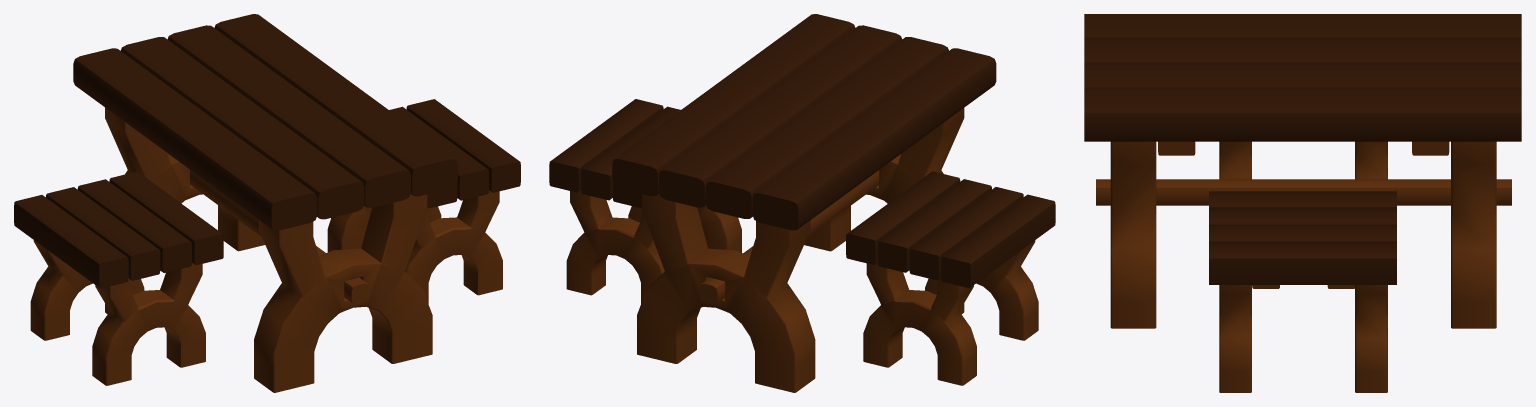
File: table.FBX
3 views of the same model, side by side, from view 1: azimuth 30°, elevation 25°; view 2: azimuth 150°, elevation 25°; view 3: azimuth 270°, elevation 25° (orthographic). The views are drawn at different scales.
Visible parts, largest first — view 1: table, bench, bench001; view 2: table, bench, bench001; view 3: table, bench001, bench.
Part boxes in pixels (left/top/right/bottom): table: left=73, top=14, right=457, bottom=392; bench: left=14, top=171, right=223, bottom=385; bench001: left=327, top=99, right=520, bottom=303; table: left=612, top=14, right=996, bottom=392; bench: left=846, top=171, right=1055, bottom=385; bench001: left=549, top=99, right=741, bottom=303; table: left=1084, top=14, right=1521, bottom=328; bench001: left=1209, top=191, right=1396, bottom=392; bench: left=1219, top=141, right=1387, bottom=179.
Size of the model in its own units: 72.51 by 33.3 by 59.06.
